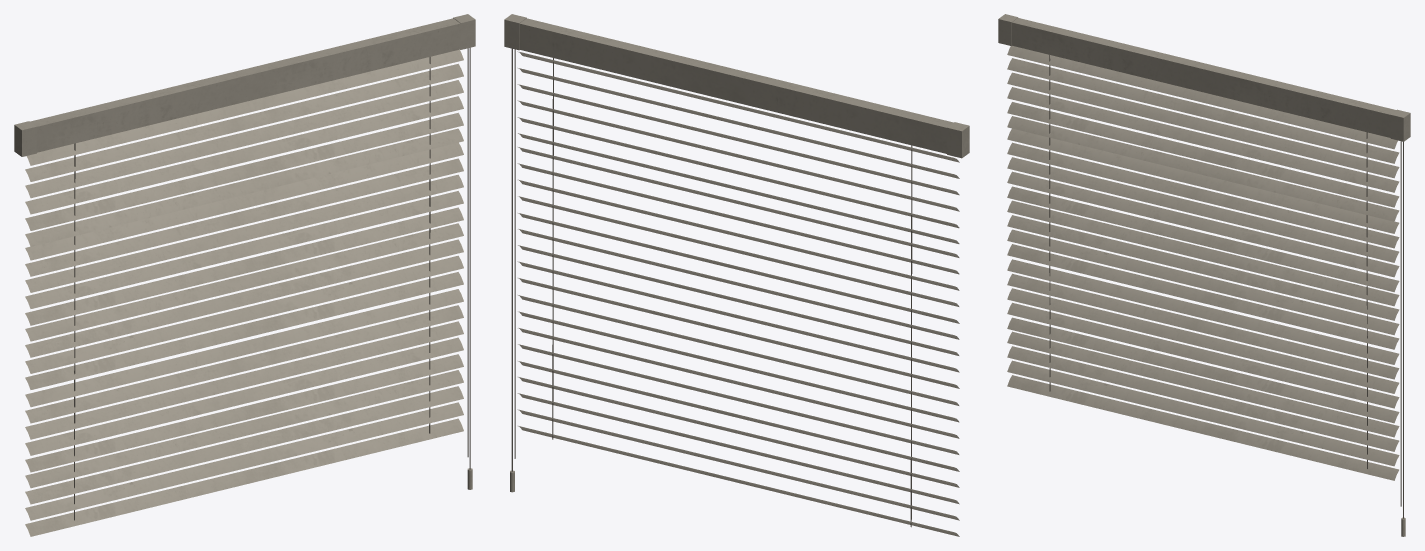
Rendered from Jalousie.FBX.
3 views of the same model, side by side, from view 1: azimuth 30°, elevation 25°; view 2: azimuth 150°, elevation 25°; view 3: azimuth 330°, elevation 25° (orthographic). The views are drawn at different scales.
Parts seen in each view (by area): view 1: Jalousie; view 2: Jalousie; view 3: Jalousie.
Boxes of the visible parts, bbox=[...] form: Jalousie: bbox=[14, 14, 475, 536]; Jalousie: bbox=[504, 14, 969, 536]; Jalousie: bbox=[998, 14, 1410, 536].
Bounding box in the file's own units: 147 × 145 × 4.28.
